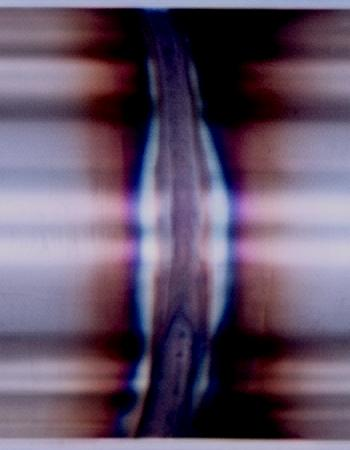soldas: (65, 4, 295, 446)
